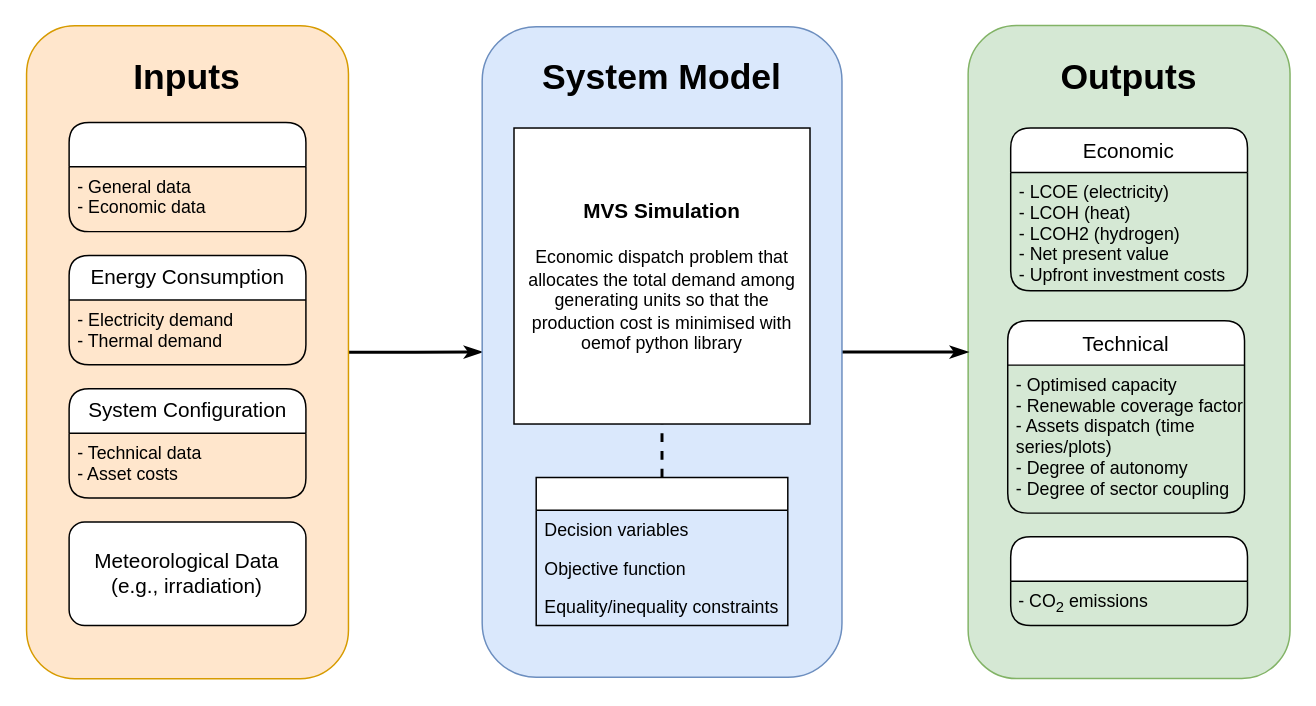
The diagram is 1316 pixels wide and 706 high, and some of its shapes have lost their labels. Here are the shapes that lost their labels. From the top down, the box of each, then its label:
(68, 121, 306, 232): Project Description
(535, 476, 788, 626): Linear Programming
(1009, 535, 1247, 626): Environmental
